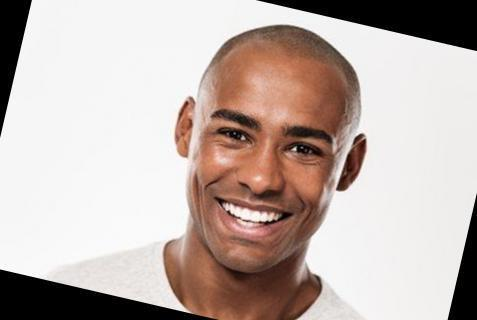Sober: (184, 55, 328, 262)
